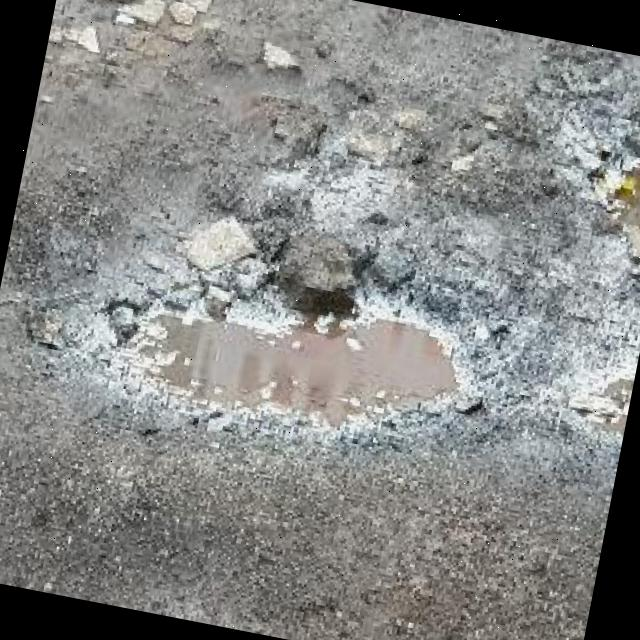stagnation: (116, 254, 478, 472)
